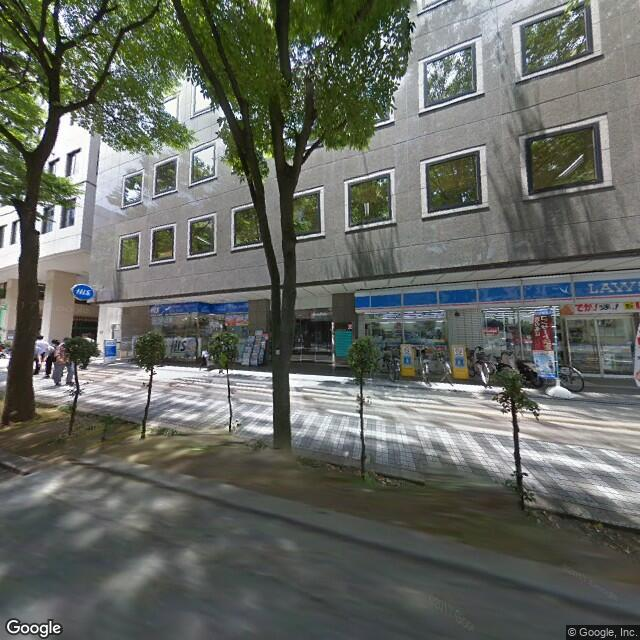lawson: (354, 265, 638, 315)
